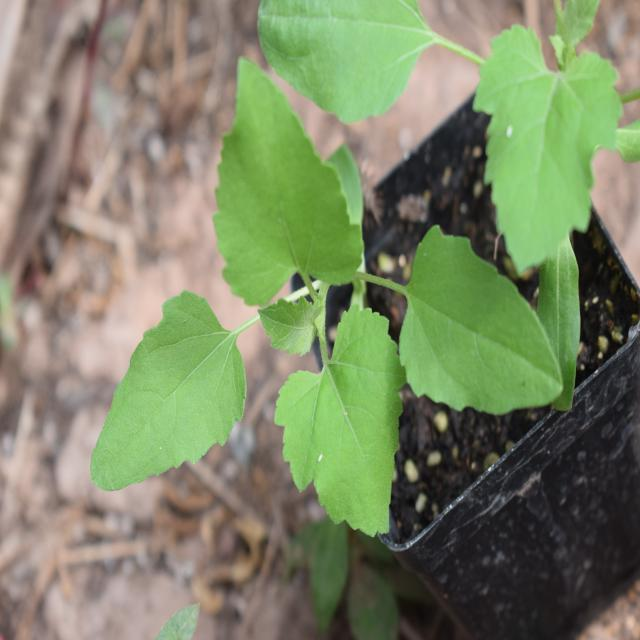cocklebur: (101, 68, 543, 527)
